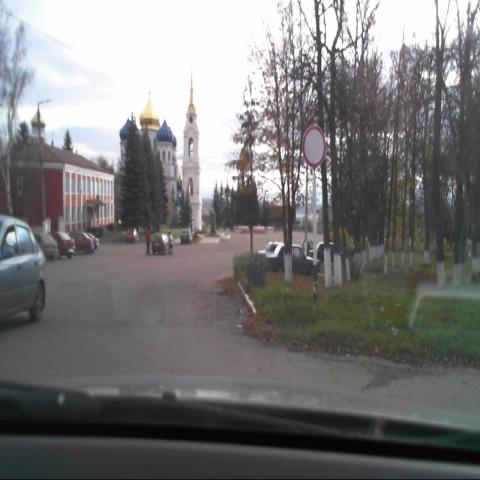3_2: (302, 126, 328, 170)
